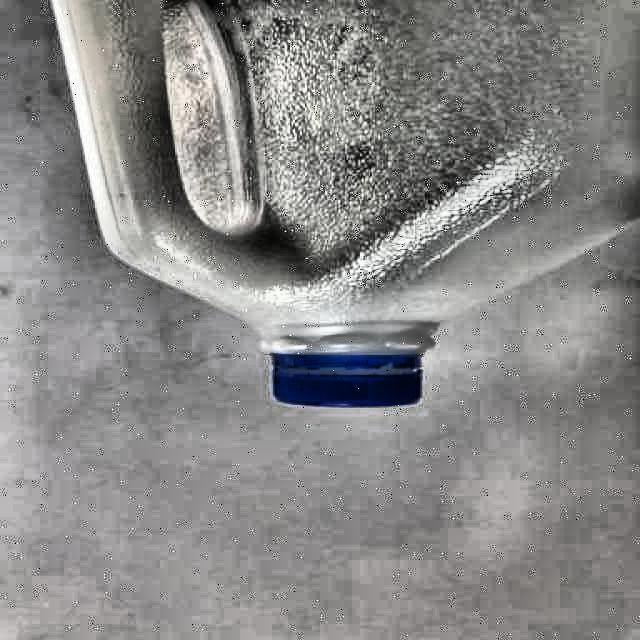plastic: (54, 0, 640, 406)
